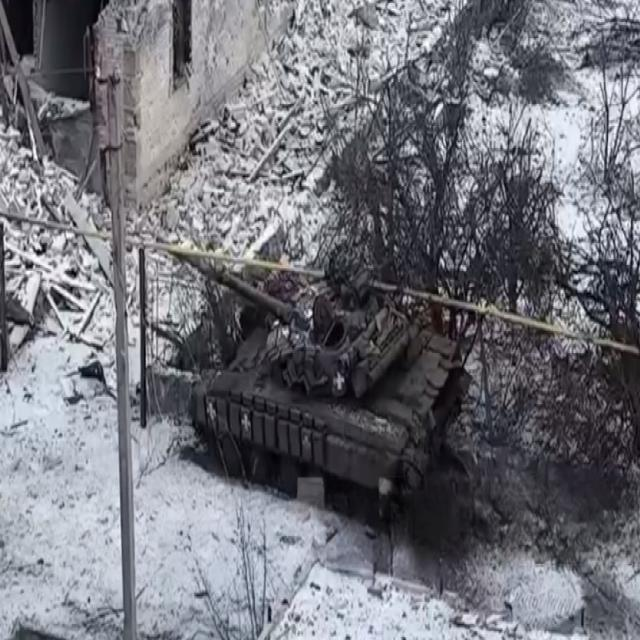MBT: (156, 235, 476, 520)
